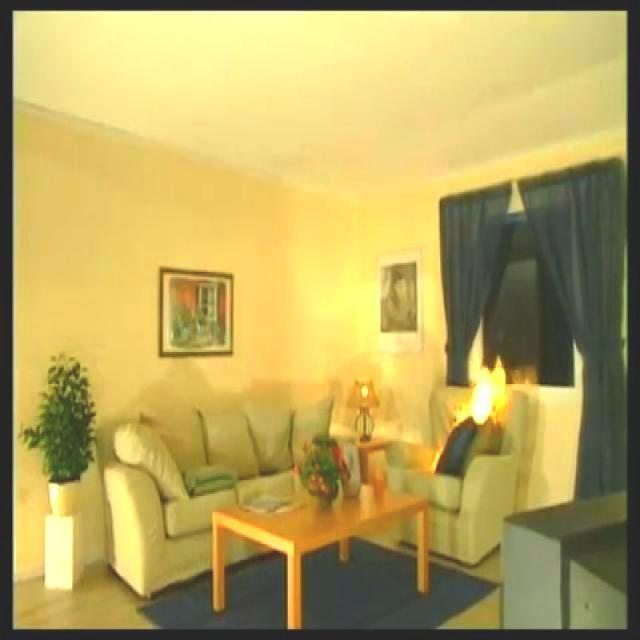smoke: (468, 348, 510, 430)
